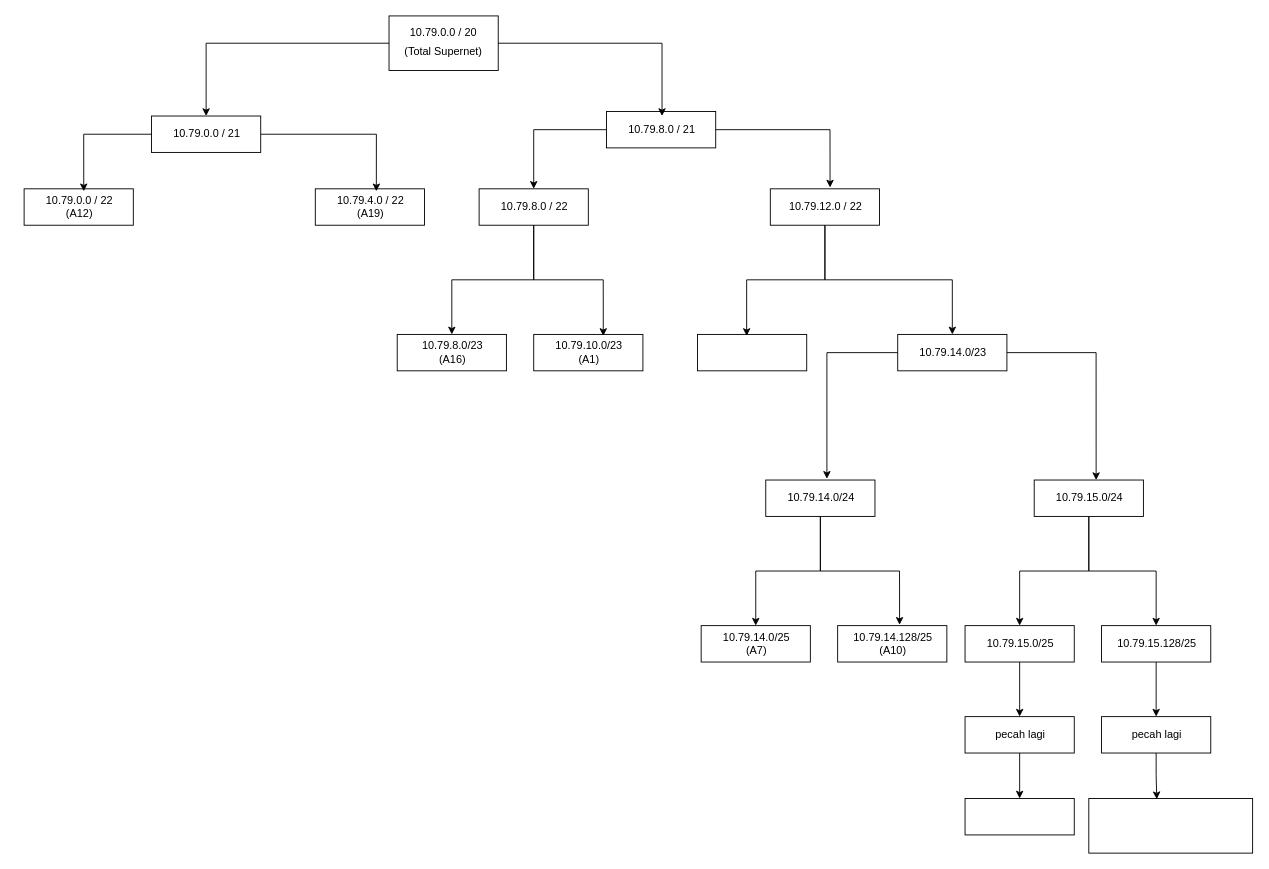
Image size: 1269x869. Some labels were removed from this diagram. Here are the shapes that lost their labels. From the top down, the centre of each, then its label:
[752,352]: 10.79.12.0/23 (A15)
[1019,816]: 10.79.15.0/26 (A23) 10.79.15.64/26 (A4)
[1170,825]: 10.79.15.128/27 (A2) 10.79.15.160/28 (A11) dan seterusnya untuk /29 & /30
